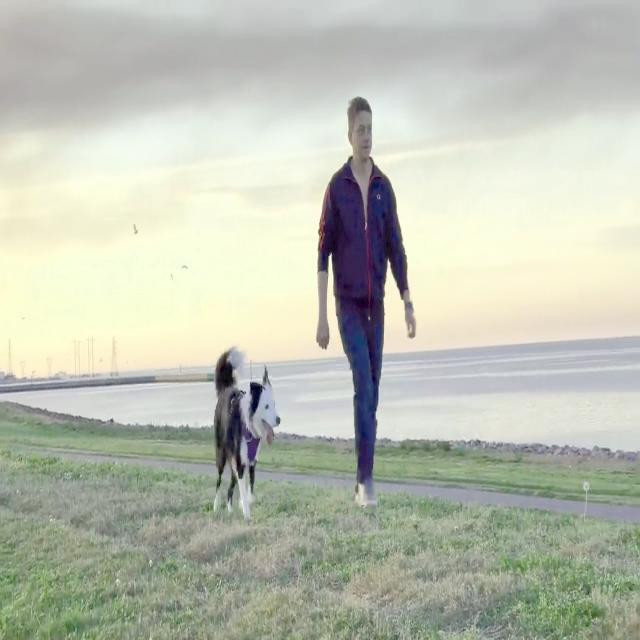Unleashed_Dog: (211, 312, 381, 521)
